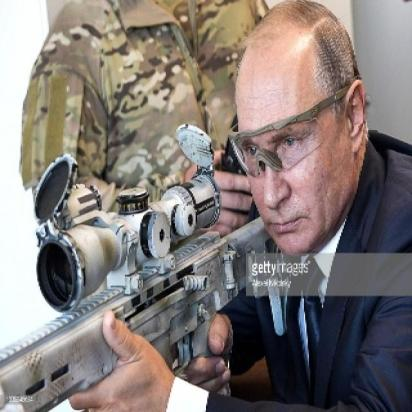Gun: (0, 121, 285, 406)
